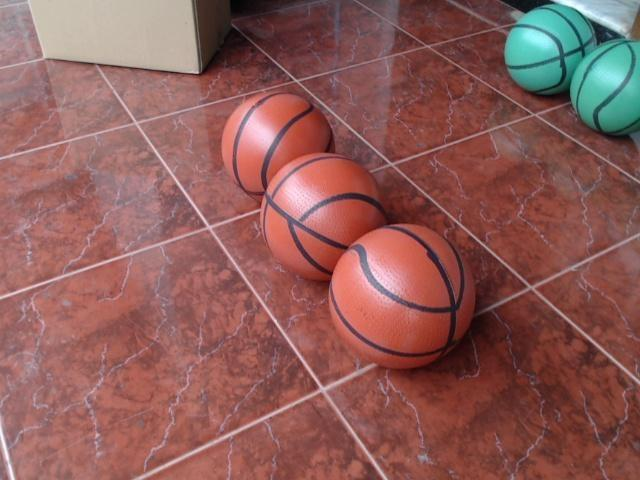Sports-Ball: (329, 225, 478, 373), (254, 151, 390, 286), (216, 80, 345, 205), (502, 4, 600, 100), (565, 46, 640, 130)
